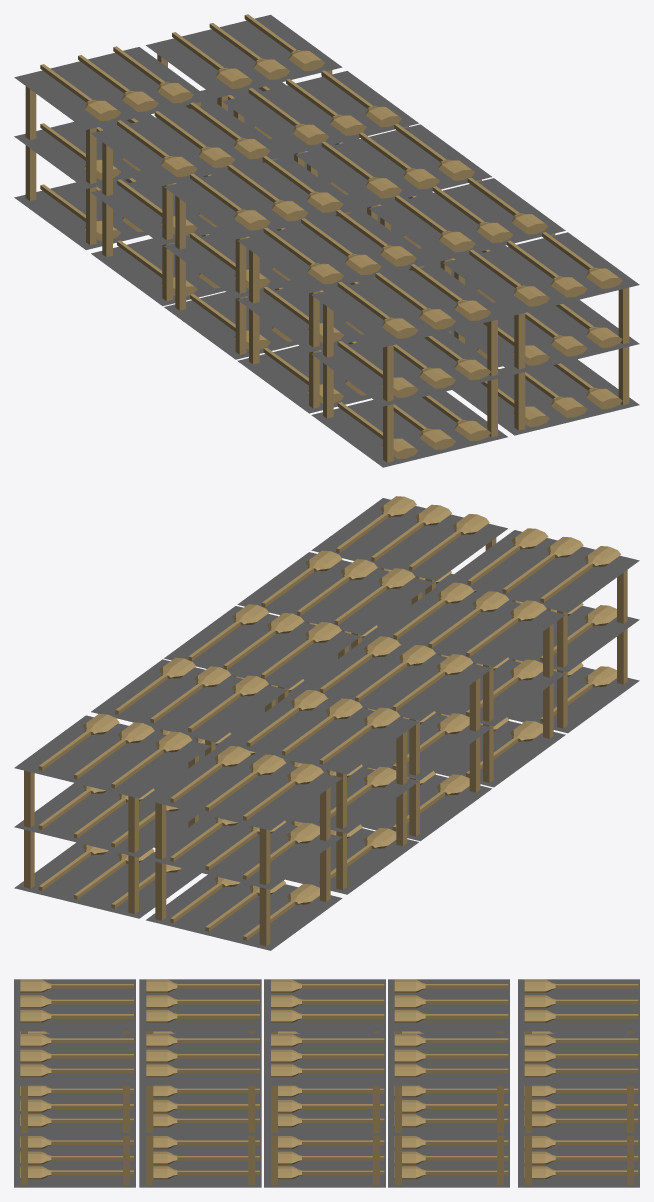
The model's file is EstanteriaEscoba5x2_atlas.obj.
3 renders of one model, top to bottom at view 1: azimuth 30°, elevation 25°; view 2: azimuth 150°, elevation 25°; view 3: azimuth 270°, elevation 25°, orthographic. The views are drawn at different scales.
Visible parts, largest first — view 1: EstanteEscoba5X2; view 2: EstanteEscoba5X2; view 3: EstanteEscoba5X2.
Boxes of the visible parts, x1,y1,x2,y2 form: EstanteEscoba5X2: (14, 14, 639, 467); EstanteEscoba5X2: (14, 496, 639, 950); EstanteEscoba5X2: (14, 979, 639, 1187).
Bounding box in the file's own units: 4.1 × 1.99 × 10.2.
